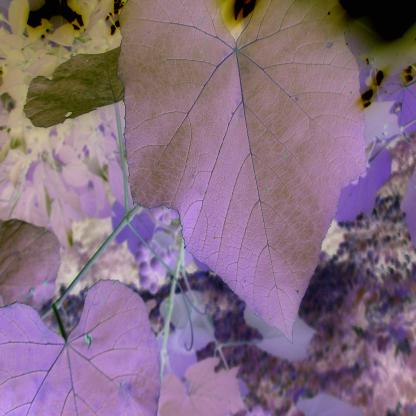grape leaf: (119, 1, 379, 336)
